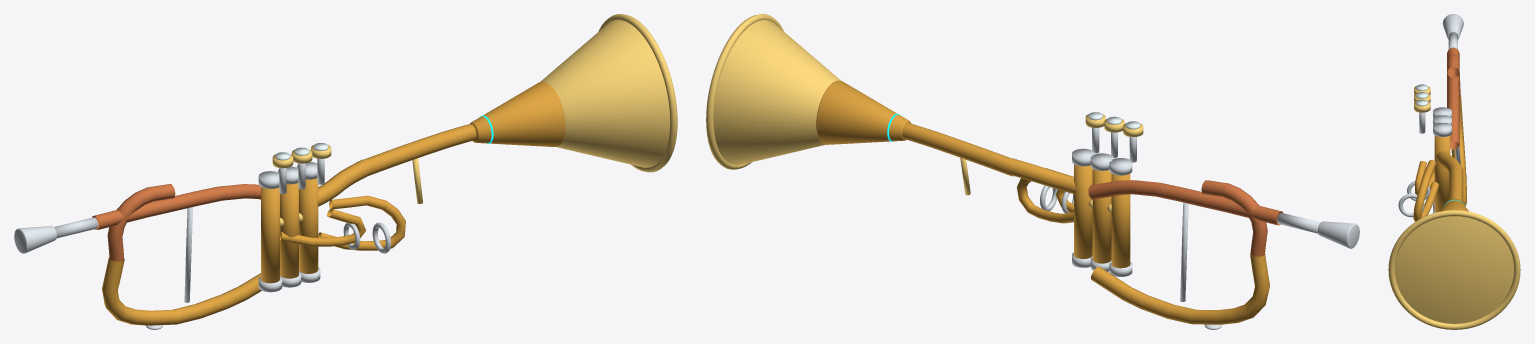
Rendered from rashin-aurora-bb-trumpet-hero.glb.
The picture shows the model from 3 angles, left to right: view 1: azimuth 30°, elevation 25°; view 2: azimuth 150°, elevation 25°; view 3: azimuth 270°, elevation 25°; orthographic projection. The views are drawn at different scales.
Parts seen in each view (by area): view 1: bell_flare, bell_throat, lower_return_tube, rose_leadpipe, upper_bell_tube, valve_casing_1, bell_rim, valve_casing_3, valve_casing_2, main_tuning_bow, third_valve_slide_u, first_valve_slide_u (+4 smaller); view 2: bell_flare, bell_throat, lower_return_tube, rose_leadpipe, upper_bell_tube, valve_casing_3, bell_rim, valve_casing_1, valve_casing_2, main_tuning_bow, third_valve_to_bell, mouthpiece_cup (+3 smaller); view 3: bell_flare, bell_rim, valve_casing_3, rose_leadpipe, third_valve_slide_u, lower_return_tube, upper_bell_tube, mouthpiece_cup, main_tuning_bow, third_valve_to_bell, first_valve_slide_u, valve_top_cap_3 (+8 smaller).
Boxes of the visible parts, box(x1,y1,x2,y2) form: bell_flare: box(540, 20, 669, 167); bell_throat: box(470, 81, 565, 146); lower_return_tube: box(102, 257, 261, 325); rose_leadpipe: box(92, 184, 260, 229); upper_bell_tube: box(359, 124, 476, 175); valve_casing_1: box(261, 187, 279, 283); bell_rim: box(598, 14, 677, 172); valve_casing_3: box(299, 178, 318, 273); valve_casing_2: box(280, 183, 298, 278); main_tuning_bow: box(107, 184, 175, 261); third_valve_slide_u: box(318, 195, 405, 250); first_valve_slide_u: box(280, 208, 365, 246); bell_flare: box(713, 20, 840, 165); bell_throat: box(816, 80, 911, 144); lower_return_tube: box(1091, 254, 1269, 324); rose_leadpipe: box(1088, 180, 1282, 225); upper_bell_tube: box(902, 123, 1016, 176); valve_casing_3: box(1074, 164, 1092, 258); bell_rim: box(706, 14, 783, 169); valve_casing_1: box(1111, 174, 1130, 268); valve_casing_2: box(1092, 169, 1111, 263); main_tuning_bow: box(1201, 180, 1267, 256); third_valve_to_bell: box(1006, 158, 1076, 194); mouthpiece_cup: box(1317, 221, 1359, 248); bell_flare: box(1395, 216, 1513, 323); bell_rim: box(1388, 210, 1520, 329); valve_casing_3: box(1434, 135, 1450, 212); rose_leadpipe: box(1447, 47, 1459, 149); third_valve_slide_u: box(1413, 159, 1439, 221); lower_return_tube: box(1451, 95, 1466, 205); upper_bell_tube: box(1448, 163, 1463, 202); mouthpiece_cup: box(1442, 14, 1463, 39); main_tuning_bow: box(1447, 53, 1460, 95); third_valve_to_bell: box(1436, 151, 1460, 171); first_valve_slide_u: box(1415, 161, 1434, 194); valve_top_cap_3: box(1433, 122, 1451, 136).
Bounding box in the file's own units: 0.9735 × 0.2943 × 0.221.
